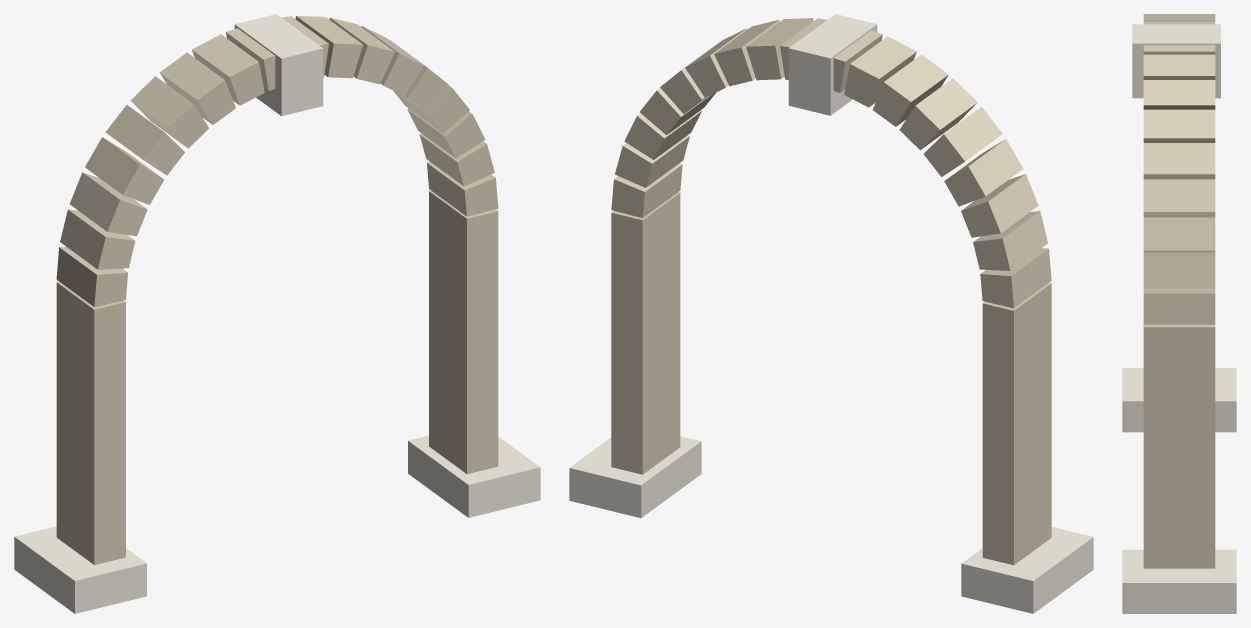
Rendered from stone_arch.glb.
3 views of the same model, side by side, from view 1: azimuth 30°, elevation 25°; view 2: azimuth 150°, elevation 25°; view 3: azimuth 270°, elevation 25° (orthographic). The views are drawn at different scales.
Parts seen in each view (by area): view 1: Roman entrance pier L, Roman entrance pier R, Plinth, Plinth.001, Roman entrance keystone, Roman entrance voussoir.015, Roman entrance voussoir.011, Roman entrance voussoir.012, Roman entrance voussoir.016, Roman entrance voussoir.014, Roman entrance voussoir.010, Roman entrance voussoir.013 (+10 smaller); view 2: Roman entrance pier L, Roman entrance pier R, Plinth, Plinth.001, Roman entrance keystone, Roman entrance voussoir.015, Roman entrance voussoir.011, Roman entrance voussoir.012, Roman entrance voussoir.016, Roman entrance voussoir.010, Roman entrance voussoir.014, Roman entrance voussoir.013 (+10 smaller); view 3: Roman entrance pier R, Plinth.001, Roman entrance keystone, Plinth, Roman entrance voussoir, Roman entrance voussoir.001, Roman entrance voussoir.003, Roman entrance voussoir.004, Roman entrance voussoir.002, Roman entrance voussoir.005, Roman entrance voussoir.006, Roman entrance voussoir.007 (+4 smaller).
Boxes of the visible parts, x1=… form: Roman entrance pier L: x1=56, y1=281, x2=125, y2=564; Roman entrance pier R: x1=429, y1=190, x2=498, y2=473; Plinth: x1=14, y1=526, x2=146, y2=613; Plinth.001: x1=408, y1=435, x2=540, y2=517; Roman entrance keystone: x1=234, y1=14, x2=323, y2=116; Roman entrance voussoir.015: x1=69, y1=172, x2=147, y2=236; Roman entrance voussoir.011: x1=159, y1=52, x2=235, y2=124; Roman entrance voussoir.012: x1=130, y1=76, x2=208, y2=148; Roman entrance voussoir.016: x1=60, y1=209, x2=135, y2=269; Roman entrance voussoir.014: x1=85, y1=137, x2=164, y2=204; Roman entrance voussoir.010: x1=192, y1=34, x2=264, y2=105; Roman entrance voussoir.013: x1=105, y1=105, x2=184, y2=175; Roman entrance pier L: x1=982, y1=282, x2=1051, y2=565; Roman entrance pier R: x1=611, y1=192, x2=680, y2=474; Plinth: x1=961, y1=527, x2=1093, y2=613; Plinth.001: x1=569, y1=436, x2=701, y2=517; Roman entrance keystone: x1=788, y1=14, x2=877, y2=115; Roman entrance voussoir.015: x1=961, y1=174, x2=1038, y2=237; Roman entrance voussoir.011: x1=873, y1=54, x2=948, y2=126; Roman entrance voussoir.012: x1=899, y1=78, x2=977, y2=150; Roman entrance voussoir.016: x1=973, y1=211, x2=1047, y2=270; Roman entrance voussoir.010: x1=844, y1=36, x2=916, y2=107; Roman entrance voussoir.014: x1=944, y1=139, x2=1023, y2=206; Roman entrance voussoir.013: x1=923, y1=106, x2=1002, y2=176; Roman entrance pier R: x1=1143, y1=324, x2=1215, y2=568; Plinth.001: x1=1122, y1=549, x2=1236, y2=613; Roman entrance keystone: x1=1132, y1=24, x2=1220, y2=98; Plinth: x1=1122, y1=368, x2=1236, y2=432; Roman entrance voussoir: x1=1143, y1=288, x2=1215, y2=324; Roman entrance voussoir.001: x1=1143, y1=252, x2=1215, y2=288; Roman entrance voussoir.003: x1=1143, y1=179, x2=1215, y2=215; Roman entrance voussoir.004: x1=1143, y1=143, x2=1215, y2=179; Roman entrance voussoir.002: x1=1143, y1=217, x2=1215, y2=250; Roman entrance voussoir.005: x1=1143, y1=109, x2=1215, y2=142; Roman entrance voussoir.006: x1=1143, y1=80, x2=1215, y2=109; Roman entrance voussoir.007: x1=1143, y1=54, x2=1215, y2=79.
Size of the model in its own units: 3.55 by 3.64 by 0.8.
